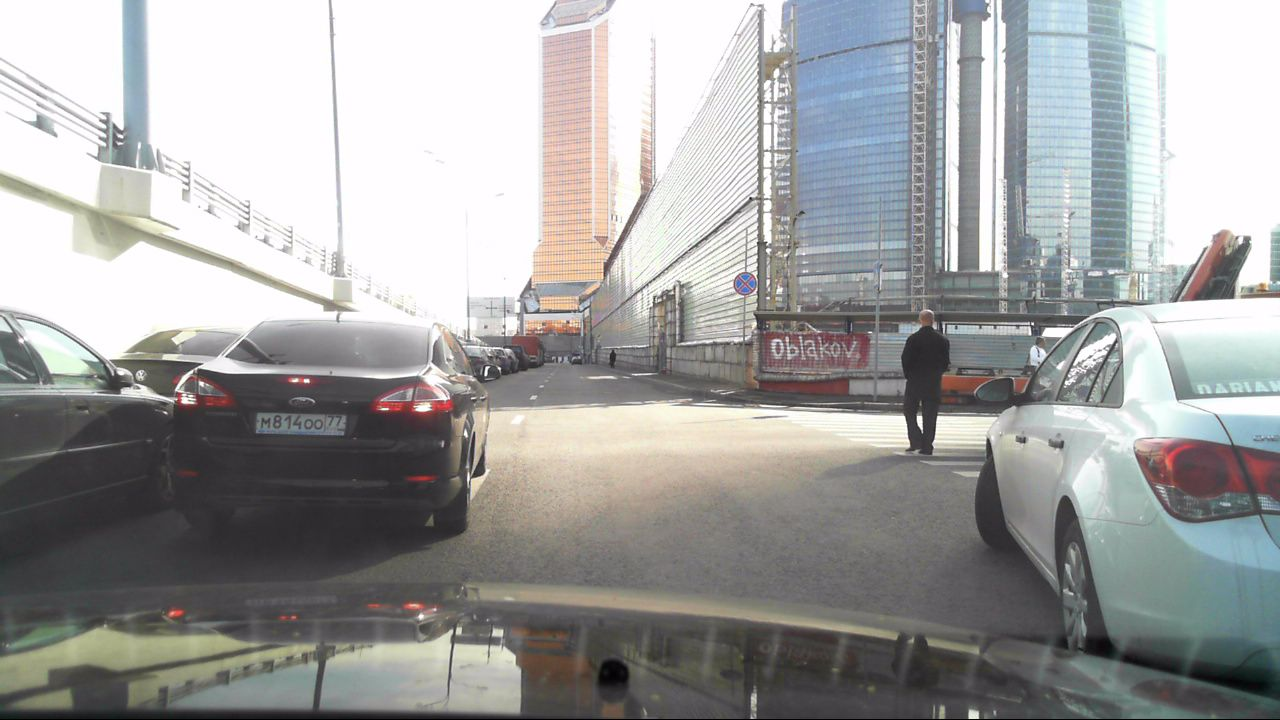No Parking: (733, 271, 758, 297)
